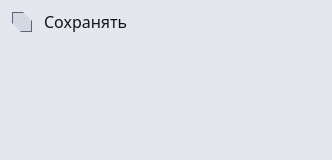
it: Checkbox › toggles from a click
Click the checkbox labelled "Сохранять": coordinates (70, 22) [12, 11, 127, 33]
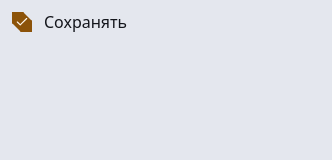
Result: the checkbox labelled "Сохранять" is checked at [12, 11, 127, 33]
